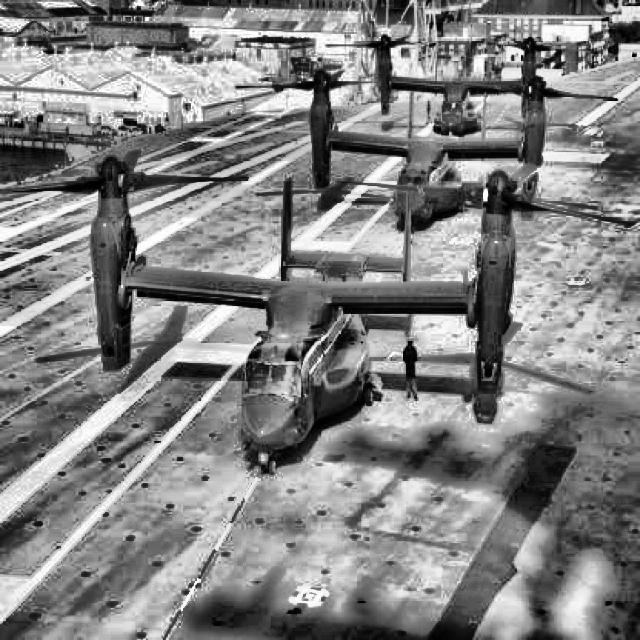V22: (1, 150, 636, 476), (235, 68, 619, 235), (325, 33, 590, 136)
